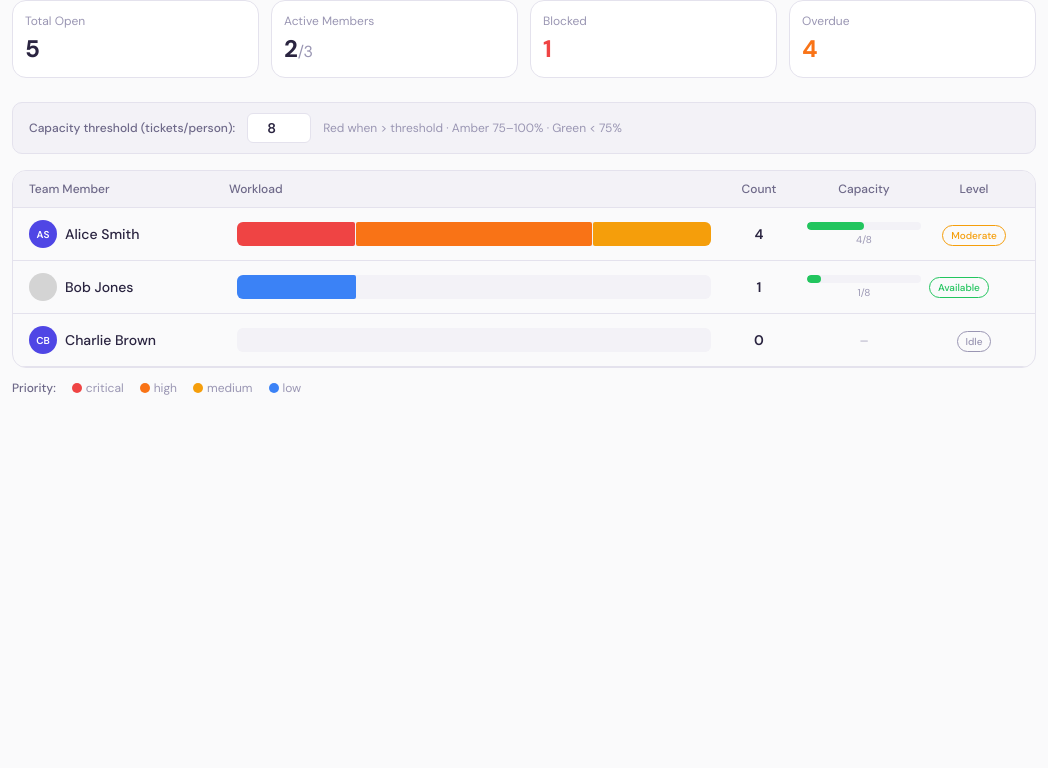
Test: TeamWorkload › collapses expanded member on second click
Click the button with test id "workload-member-u-1".
click(524, 234)  # box [13,208,1035,261]
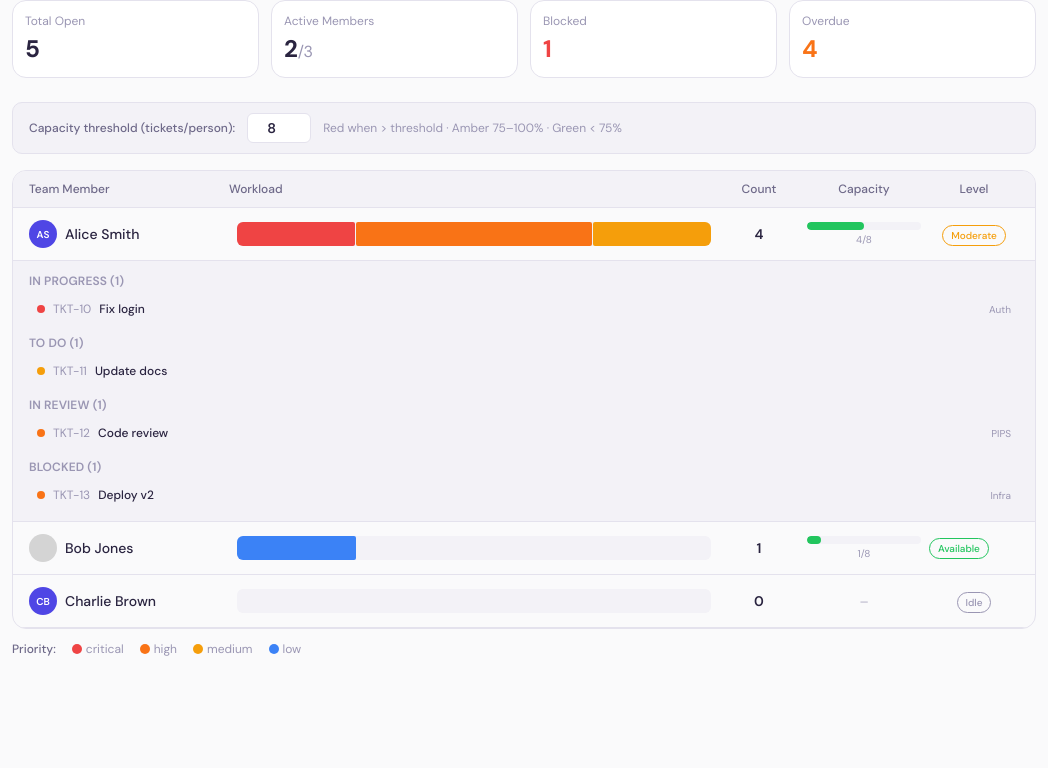
Check: the element with test id "workload-detail-u-1" is shown, box [13,261,1035,522]
Click the button with test id "workload-member-u-1".
click(524, 234)  # box [13,208,1035,261]
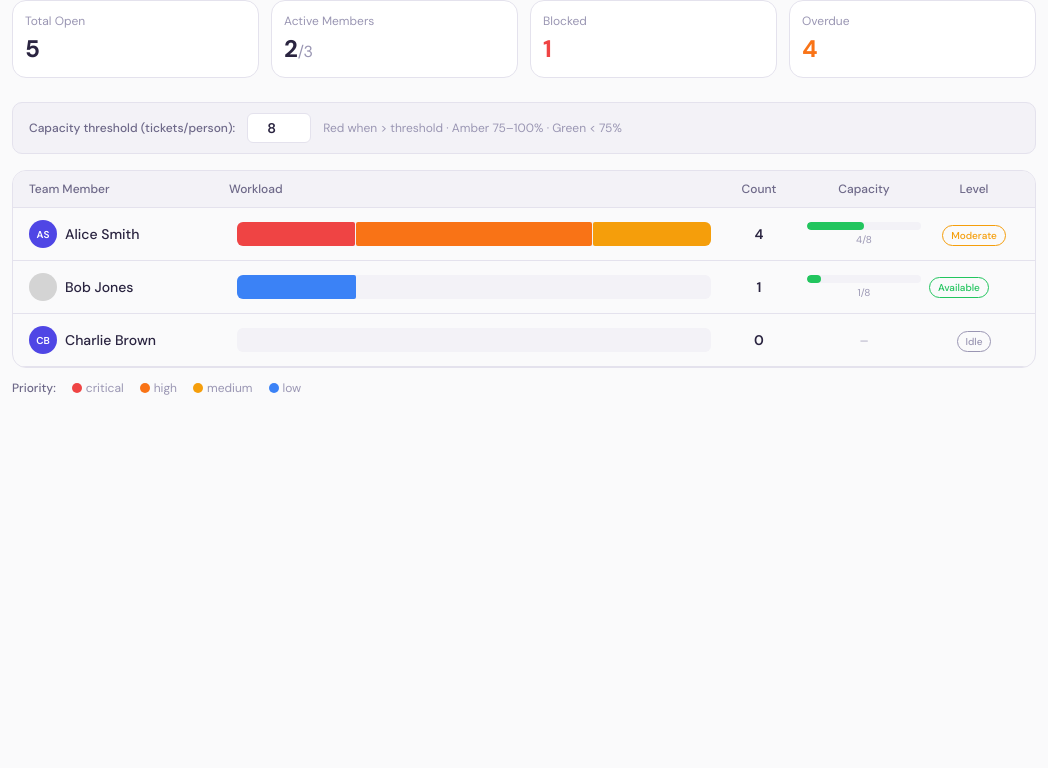
Check: the element with test id "workload-detail-u-1" is gone
